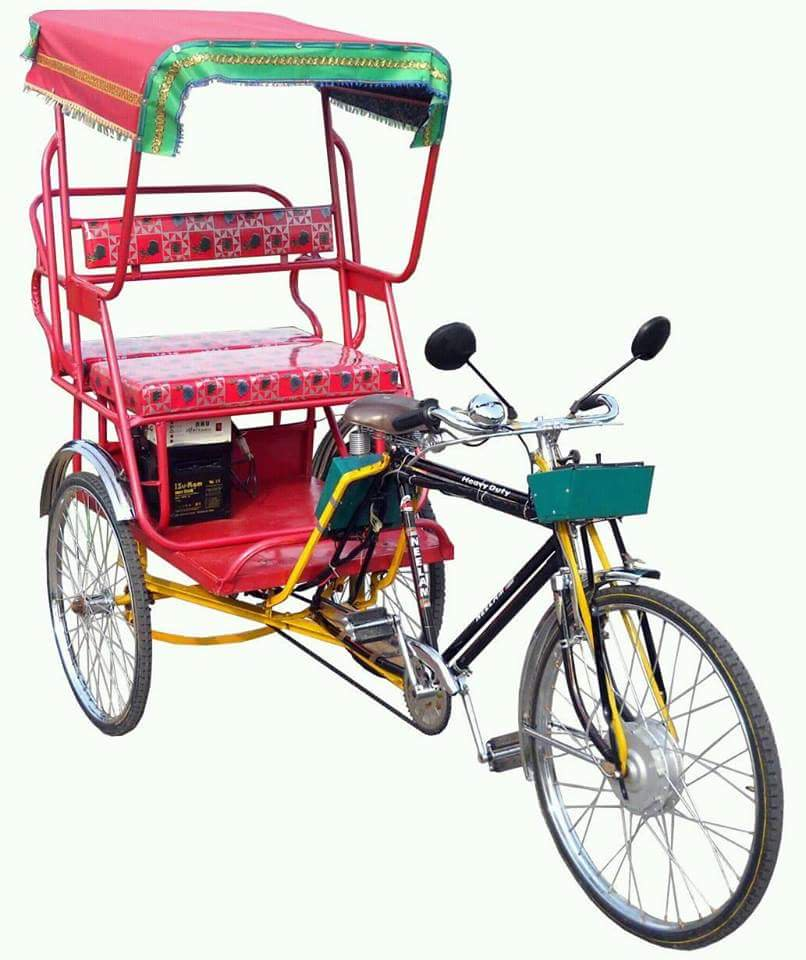Rickshaw: (12, 3, 795, 959)
